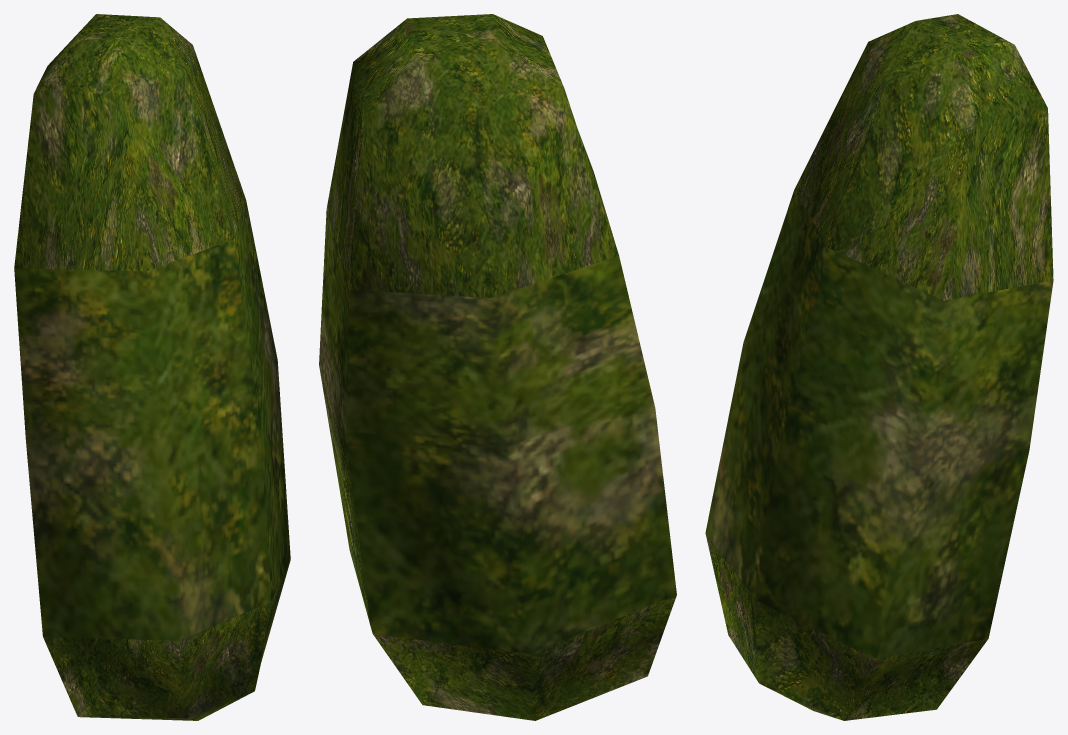
The model's file is OVERHILL_A_01_ROCK_BRIDGE09.fbx.
3 views of the same model, side by side, from view 1: azimuth 30°, elevation 25°; view 2: azimuth 150°, elevation 25°; view 3: azimuth 270°, elevation 25° (orthographic). The views are drawn at different scales.
Visible parts, largest first — view 1: OVERHILL_A_01_ROCK_BRIDGE09; view 2: OVERHILL_A_01_ROCK_BRIDGE09; view 3: OVERHILL_A_01_ROCK_BRIDGE09.
Boxes of the visible parts, bbox=[...] form: OVERHILL_A_01_ROCK_BRIDGE09: bbox=[14, 14, 290, 720]; OVERHILL_A_01_ROCK_BRIDGE09: bbox=[319, 14, 676, 720]; OVERHILL_A_01_ROCK_BRIDGE09: bbox=[705, 14, 1053, 720].
Size of the model in its own units: 22555 by 49828 by 23291.
1 material, 1 textured.
